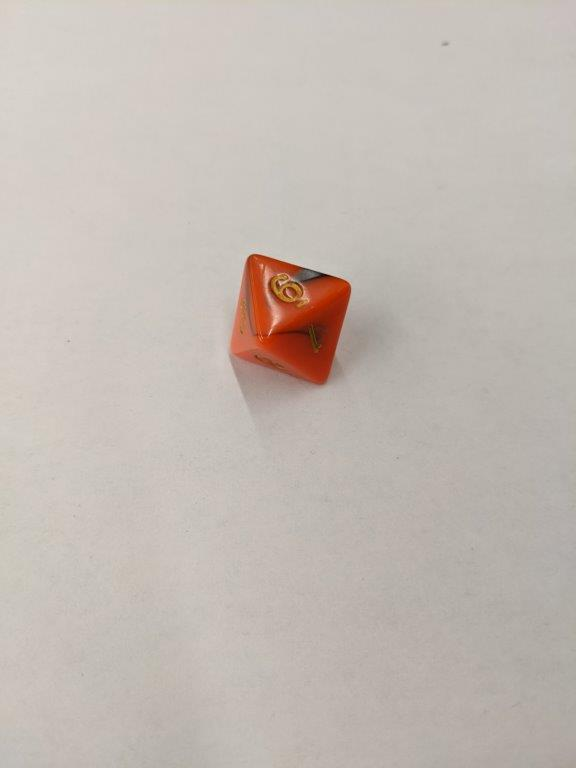d8-6: (224, 252, 351, 390)
